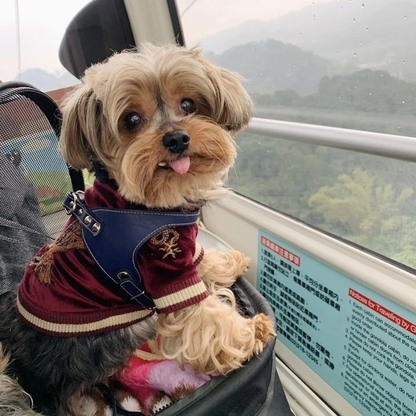yorkshire: (15, 42, 276, 374)
